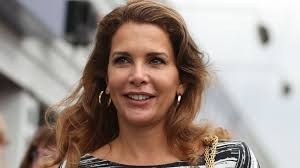middle_eastern_Female: (108, 19, 189, 124)
